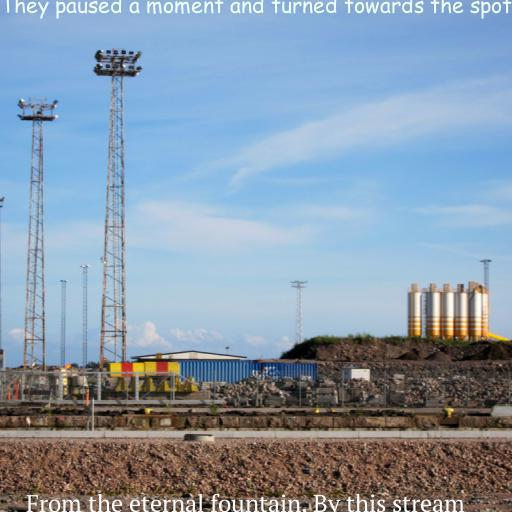Comic Sans MS: (0, 0, 512, 19)
PT Serif: (25, 493, 465, 512)
